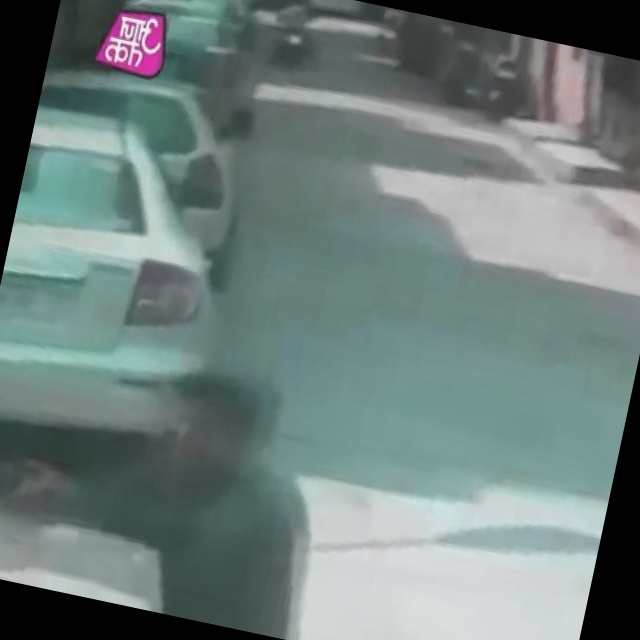gun: (0, 439, 39, 516)
